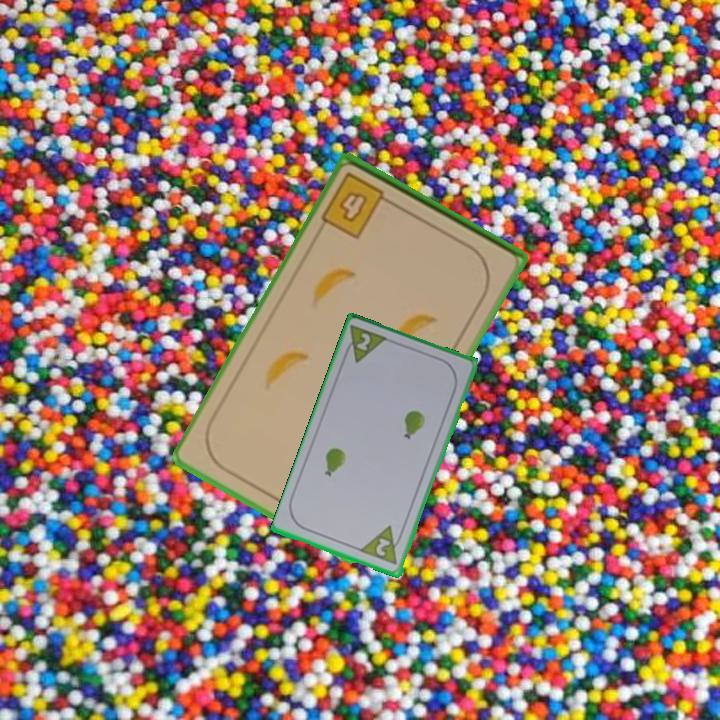2p: (339, 322, 391, 367), (372, 534, 393, 560)
4b: (317, 169, 398, 242)
